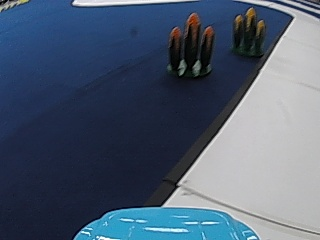corn: (167, 13, 215, 78), (230, 6, 266, 58)
